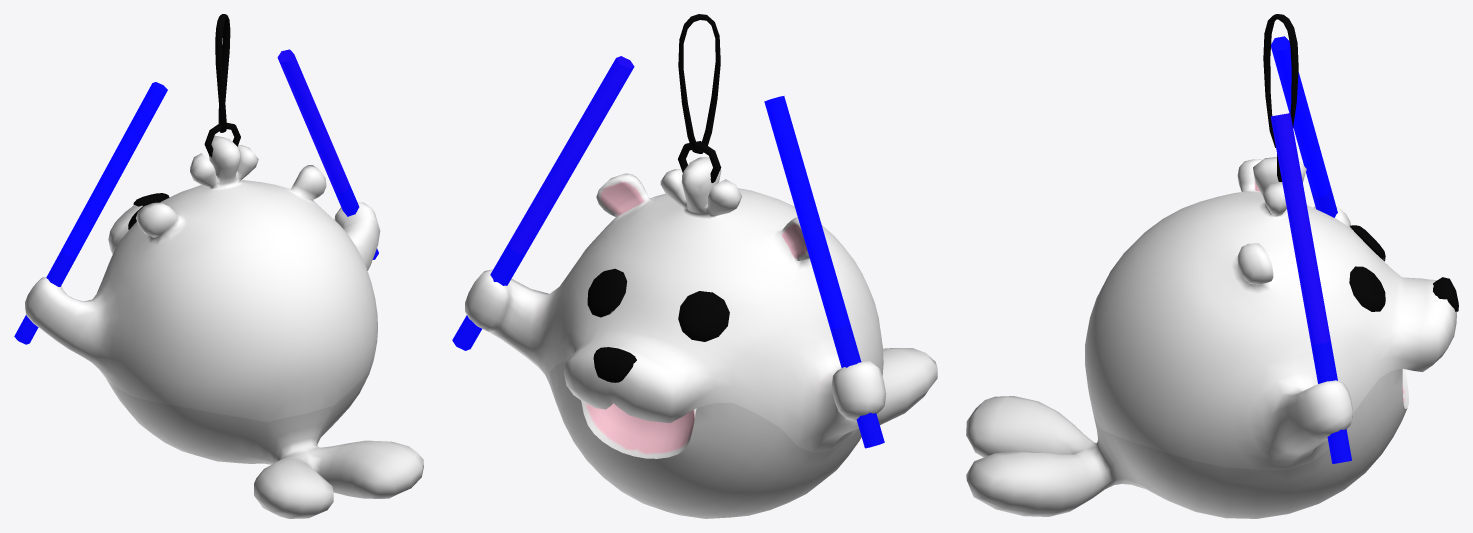
The model's file is Ball_Seal.fbx.
The picture shows the model from 3 angles, left to right: view 1: azimuth 30°, elevation 25°; view 2: azimuth 150°, elevation 25°; view 3: azimuth 270°, elevation 25°; orthographic projection. The views are drawn at different scales.
Parts seen in each view (by area): view 1: Ball_Seal; view 2: Ball_Seal; view 3: Ball_Seal.
Part boxes in pixels (x1,y1,x2,y2): Ball_Seal: (14,14,423,518); Ball_Seal: (452,14,937,518); Ball_Seal: (966,14,1458,518).
Size of the model in its own units: 9.07 by 10.14 by 9.27.
